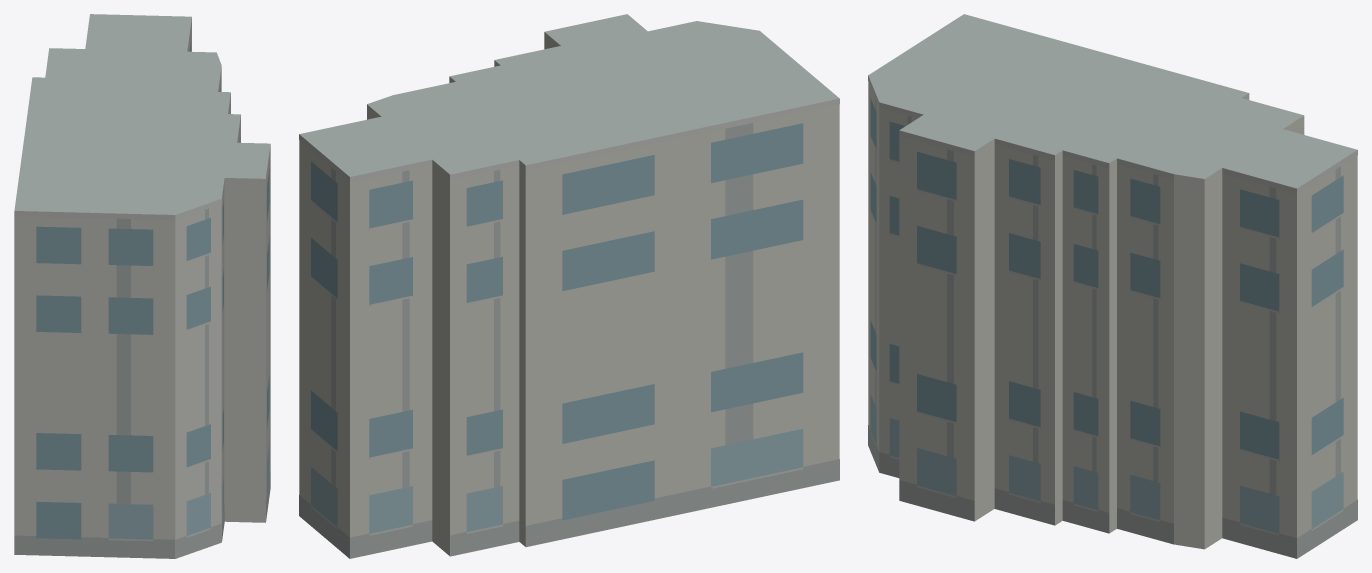
Rendered from survey-upis-32611044.glb.
The picture shows the model from 3 angles, left to right: view 1: azimuth 30°, elevation 25°; view 2: azimuth 150°, elevation 25°; view 3: azimuth 270°, elevation 25°; orthographic projection. The views are drawn at different scales.
Parts seen in each view (by area): view 1: survey-upis-32611044.tmp; view 2: survey-upis-32611044.tmp; view 3: survey-upis-32611044.tmp.
Boxes of the visible parts, x1,y1,x2,y2 form: survey-upis-32611044.tmp: (14,14,270,558); survey-upis-32611044.tmp: (299,14,839,558); survey-upis-32611044.tmp: (868,14,1357,558).
Size of the model in its own units: 16.13 by 15.95 by 19.12.
